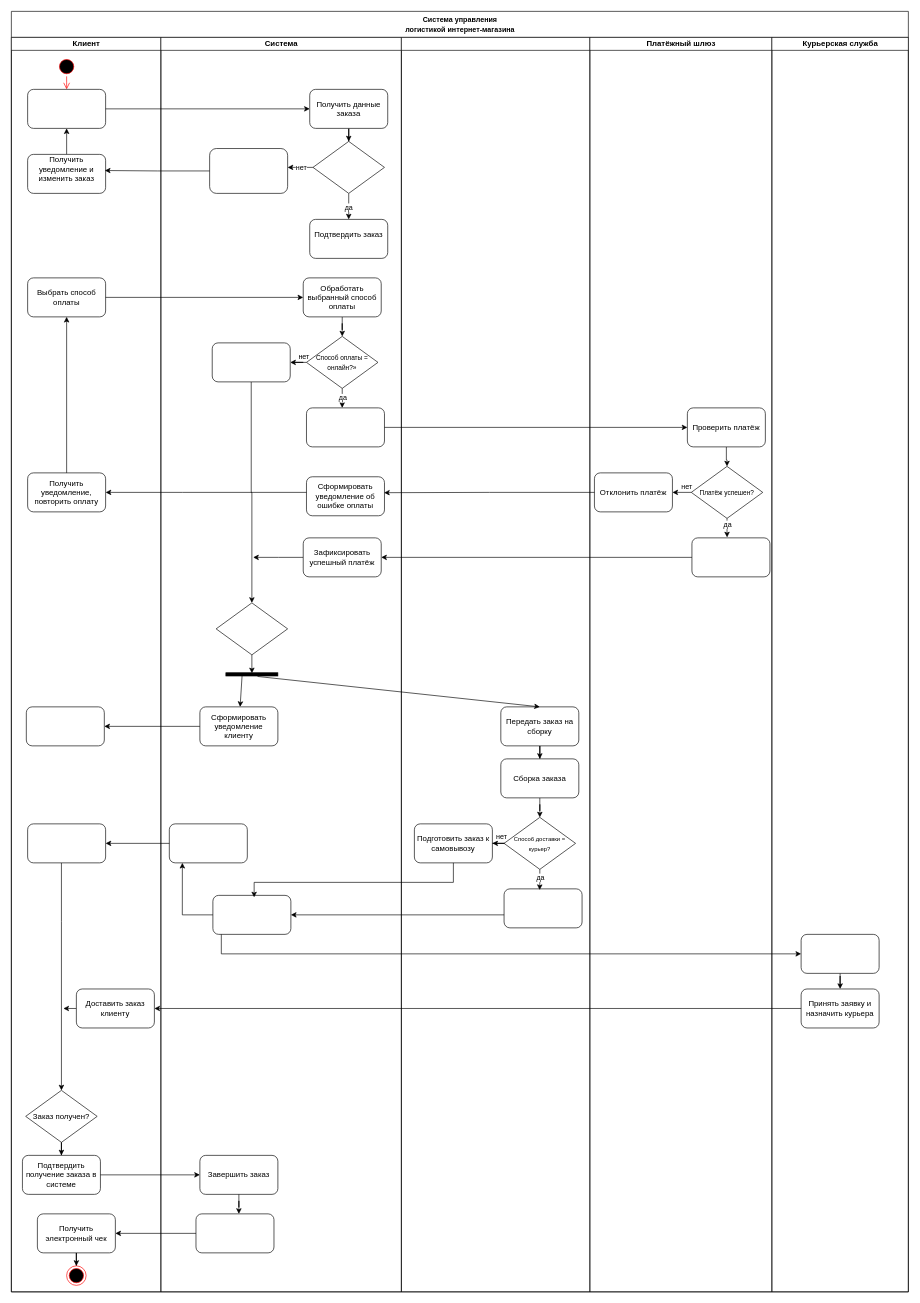
This 920x1303 diagram has some shape labels left out. Each missing label, with the box of its shape:
Все товары в наличии?: (312, 141, 384, 193)
Зафиксировать оплату при доставке: (212, 342, 290, 382)
Отправить клиенту уведомление о готовности заказа к самовывозу: (169, 823, 247, 863)
Отправить платёжные данные в платёжный шлюз: (306, 407, 384, 447)
Отправить электронный чек клиенту: (195, 1213, 274, 1253)
Подготовить заказ к передаче курьеру: (503, 888, 582, 928)
Подтвердить платёж: (691, 537, 770, 577)
Получает информацию от склада: (212, 895, 291, 934)
Получить уведомление…: (26, 706, 104, 746)
Прибыть в пункт самовывоза и забрать заказ: (27, 823, 106, 863)
Склад: (401, 37, 590, 1292)
Создать заказ на сайте: (27, 89, 106, 128)
Создать заявку на курьерскую службу: (800, 934, 879, 973)
Сформировать уведомление о недоступных товарах: (209, 148, 288, 193)
